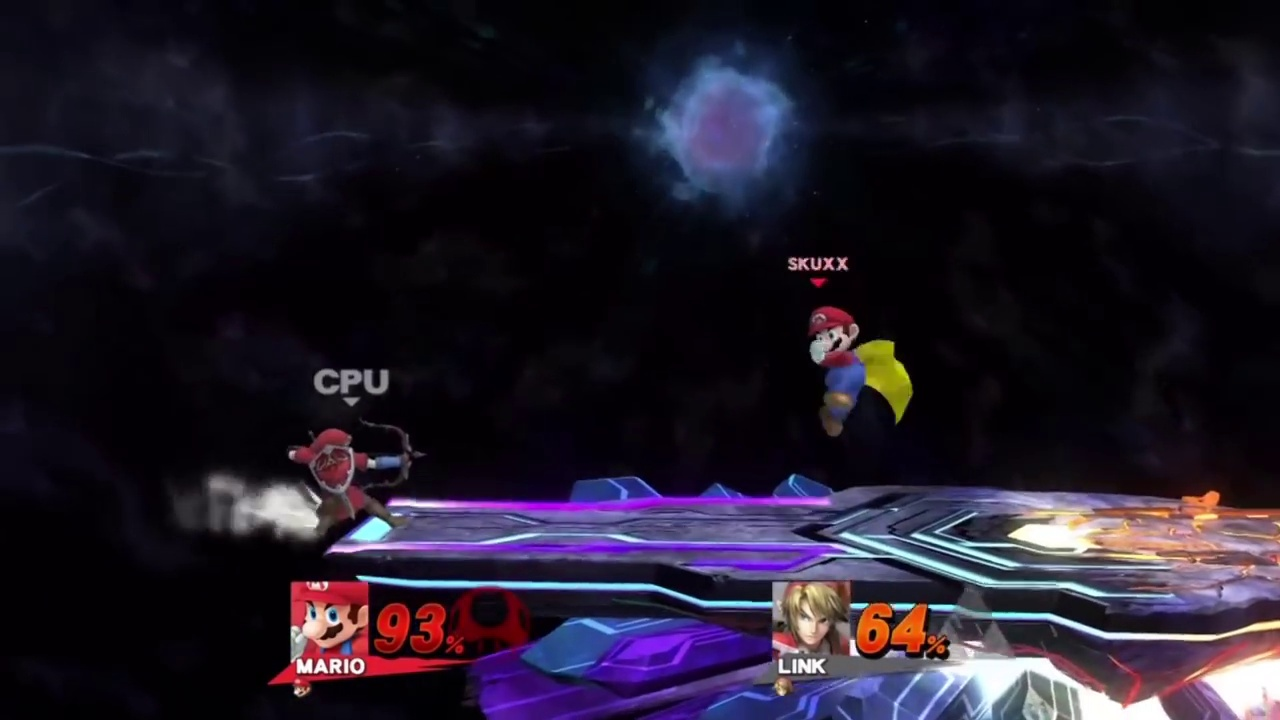Mario: (806, 306, 911, 442)
